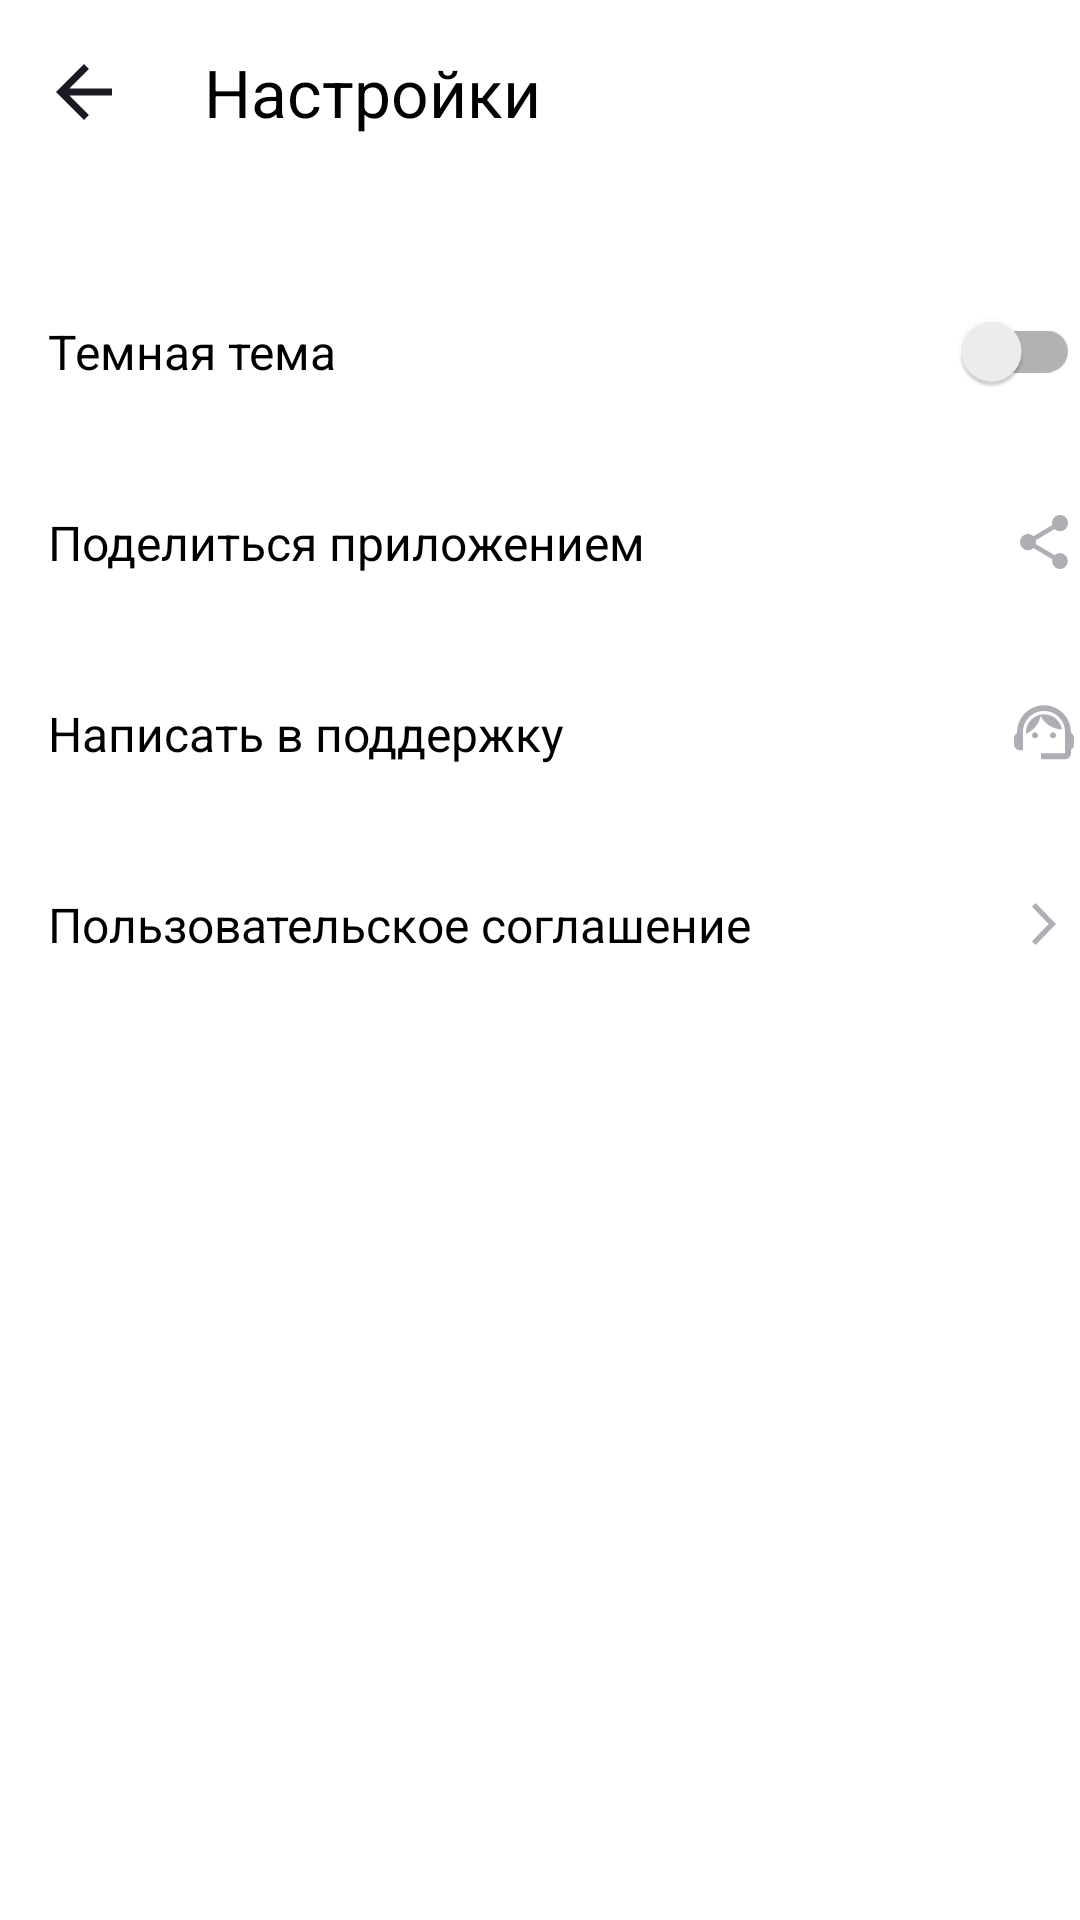

Icon bounding boxes for this 1080*1920 phone screenshot, format (x1, y1, x2, y2):
arrow back: (56, 64, 112, 120)
vectorshare: (1020, 515, 1068, 569)
